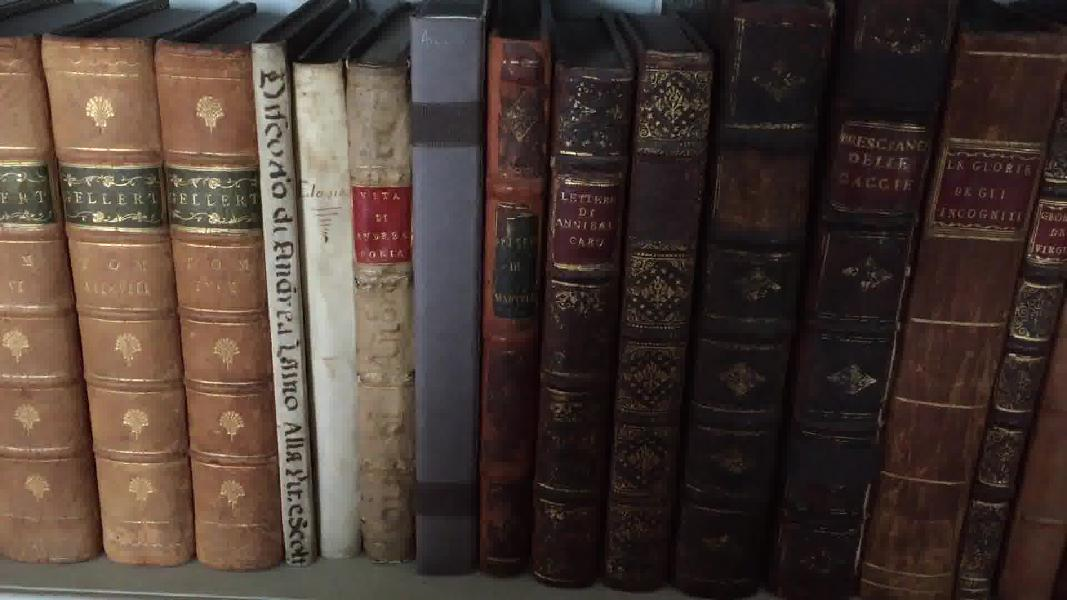Aa6-24: (246, 31, 327, 563)
Aa6-25: (283, 52, 371, 563)
Aa6-26: (347, 59, 423, 567)
Aa6-27: (405, 13, 479, 579)
Aa6-28: (479, 15, 540, 574)
Aa6-29: (535, 42, 631, 588)
Aa6-30: (601, 27, 719, 600)
Aa6-31: (665, 1, 842, 600)
Aa6-32: (762, 1, 950, 600)
Aa6-33: (850, 21, 1063, 600)
